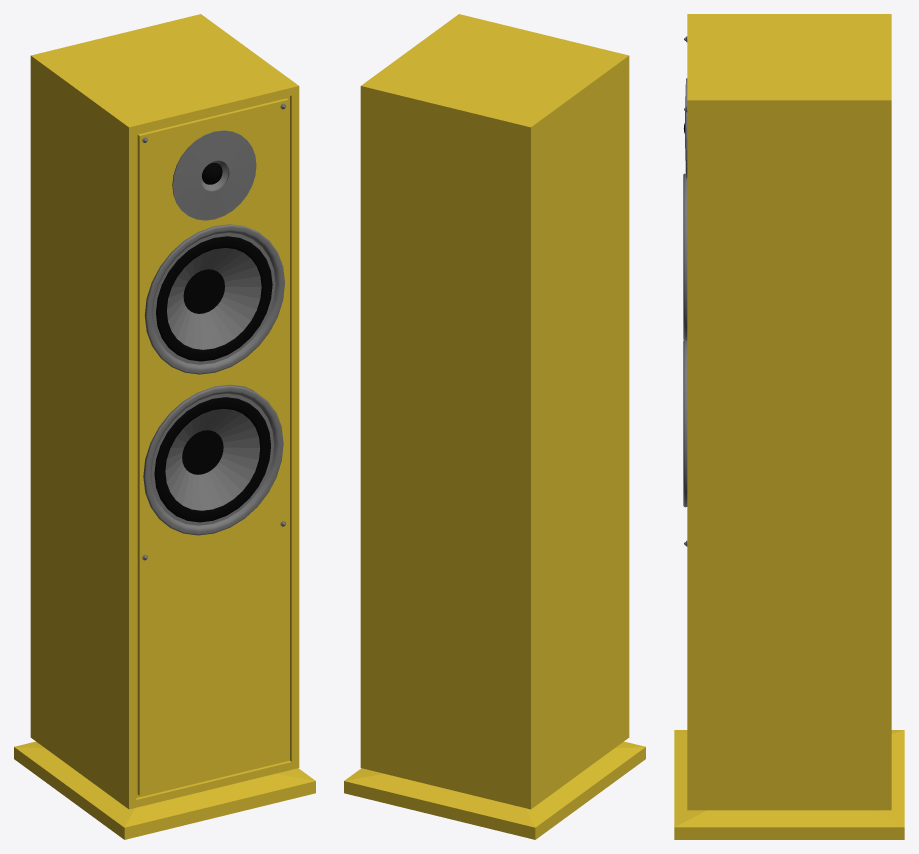
The model's file is 스피커_노_큰.FBX.
3 renders of one model, left to right at view 1: azimuth 30°, elevation 25°; view 2: azimuth 150°, elevation 25°; view 3: azimuth 270°, elevation 25°, orthographic. The views are drawn at different scales.
Visible parts, largest first — view 1: Box007, Circle022, Circle021, Circle019; view 2: Box007; view 3: Box007, Circle022, Circle021.
Boxes of the visible parts, <box> form: Box007: <box>14,14,315,839</box>; Circle022: <box>143,384,283,535</box>; Circle021: <box>144,224,284,374</box>; Circle019: <box>172,130,256,220</box>; Box007: <box>344,14,645,839</box>; Box007: <box>674,14,904,839</box>; Circle022: <box>683,340,687,507</box>; Circle021: <box>683,173,687,340</box>.
Bounding box in the file's own units: 248 × 875 × 248.
